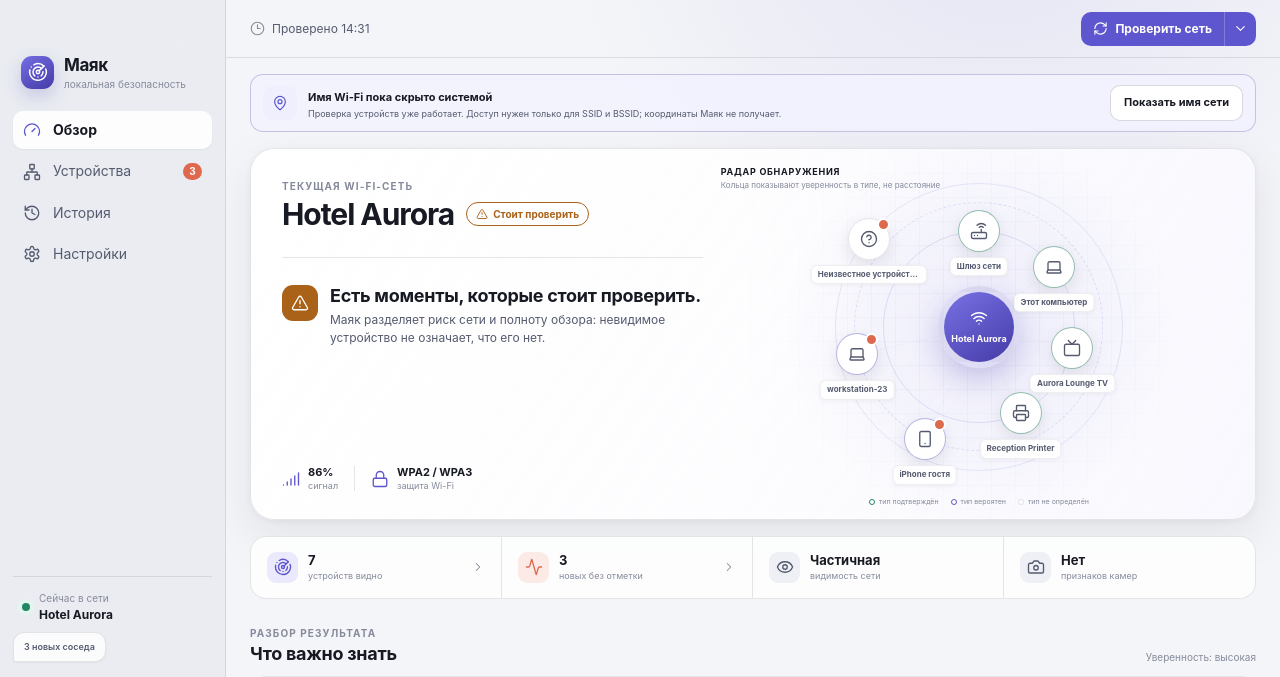
Маяк › не блокирует настройки без геопозиции
The width and height of the screenshot is (1280, 677).
expect the heading "Hotel Aurora" is shown: met, box [282,198,454,230]
Step 1. Click the button "Настройки" → (112, 254), box [13,235,212,273]
(page scrolled)
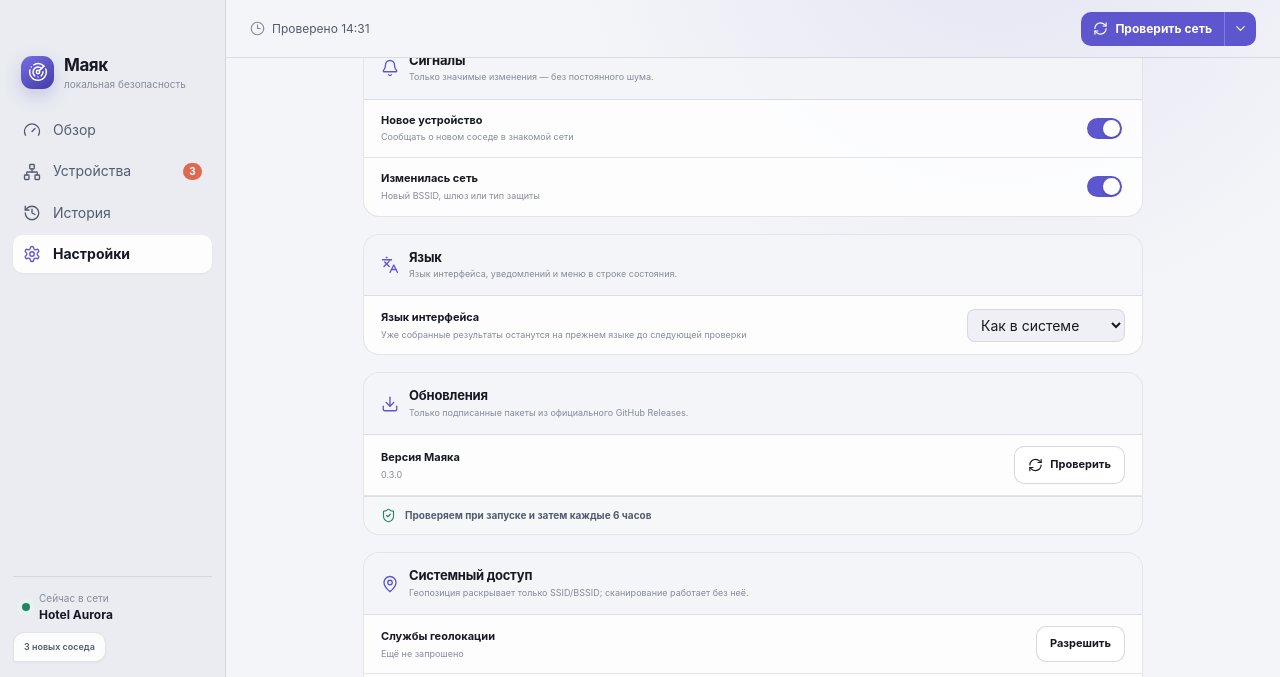
expect the text "Ещё не запрошено" is shown: met, box [381,648,464,659]
